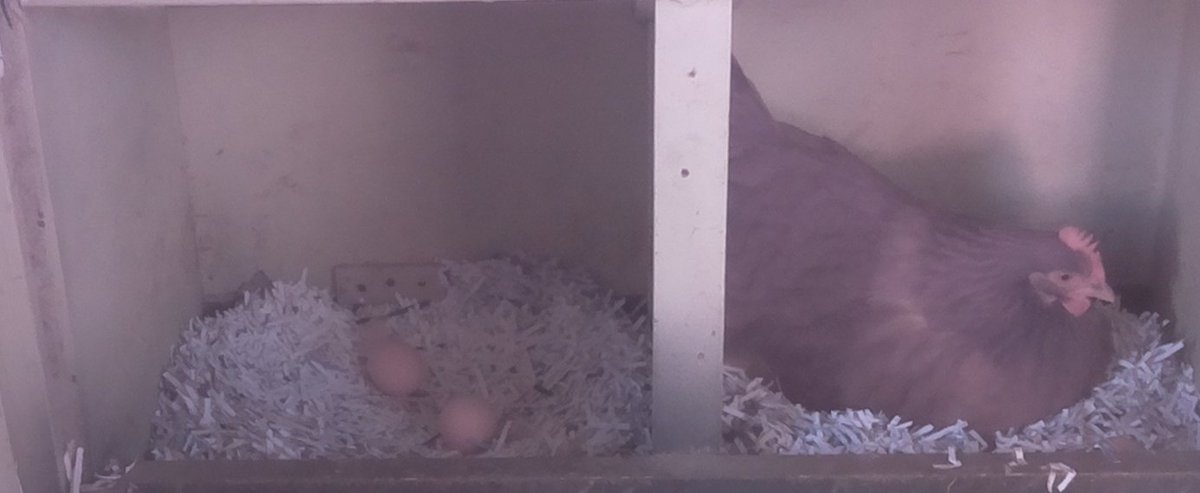egg: (427, 387, 505, 453), (363, 334, 430, 404)
hen: (735, 131, 1118, 444)
